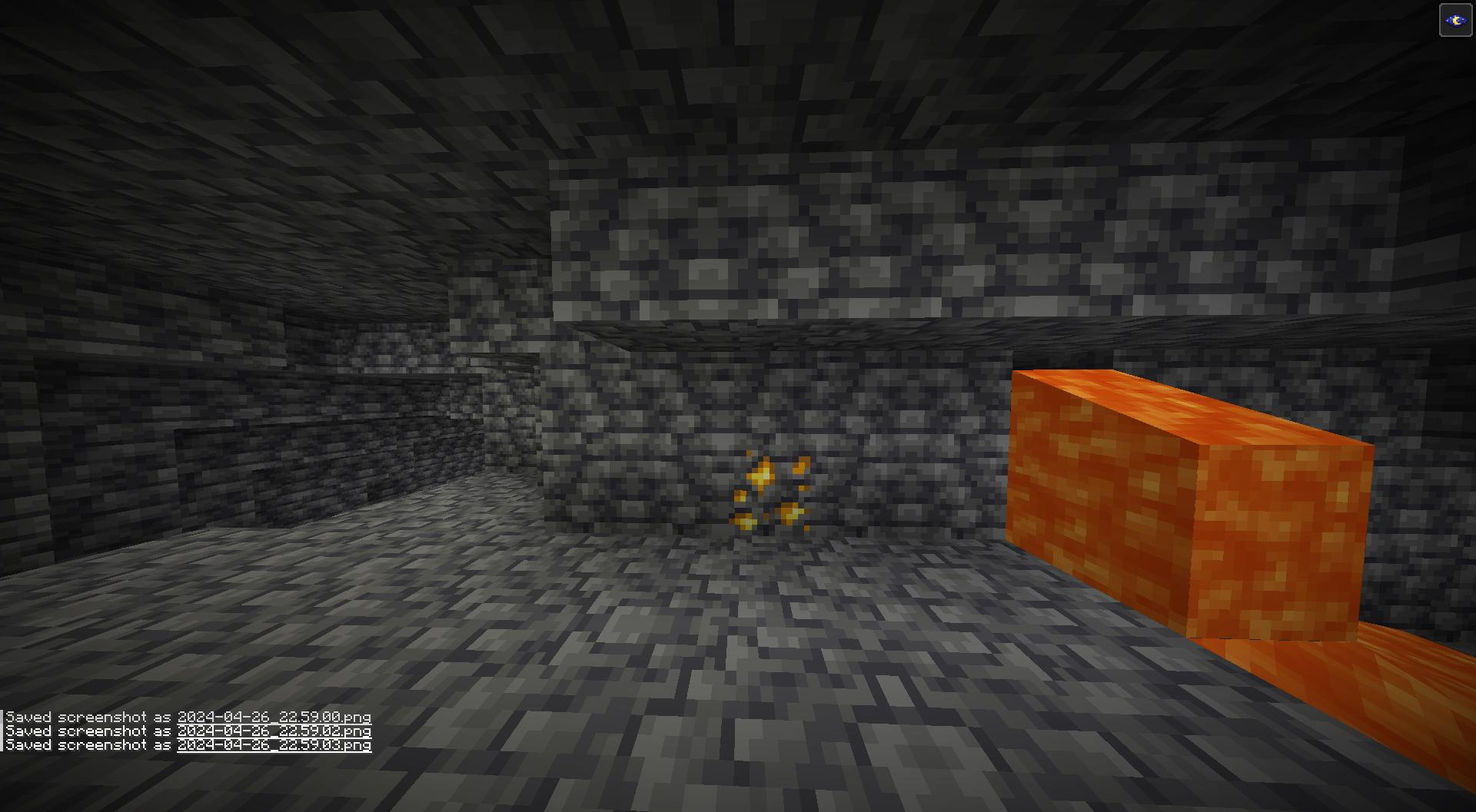redstone ore: (733, 446, 816, 537)
